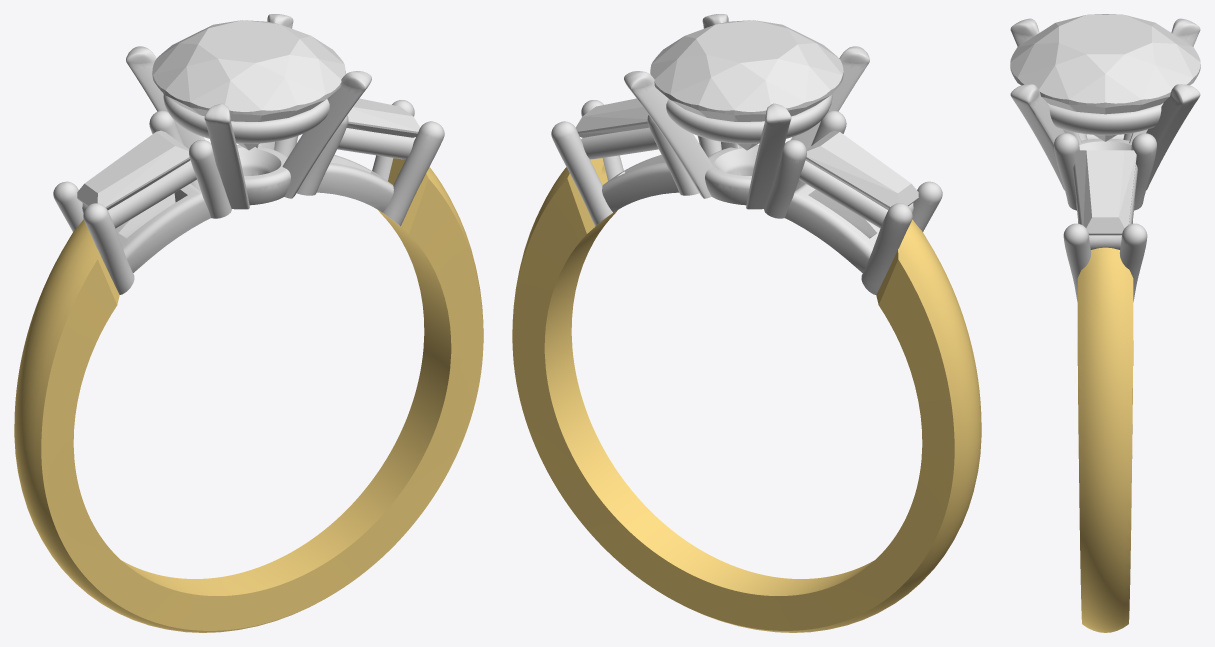
File: Liamv1YGPT_blender.glb
3 renders of one model, left to right at view 1: azimuth 30°, elevation 25°; view 2: azimuth 150°, elevation 25°; view 3: azimuth 270°, elevation 25°, orthographic.
Parts seen in each view (by area): view 1: Liam YG for 3d model, Liam PT for 3d model, center dia for 3d model, tapered dia v1 for 3d model, tapered dia v1 for 3d model.001; view 2: Liam YG for 3d model, Liam PT for 3d model, center dia for 3d model, tapered dia v1 for 3d model, tapered dia v1 for 3d model.001; view 3: Liam YG for 3d model, center dia for 3d model, Liam PT for 3d model, tapered dia v1 for 3d model.001.
Boxes of the visible parts, left/top/right/bottom form: Liam YG for 3d model: left=14, top=158, right=483, bottom=632; Liam PT for 3d model: left=53, top=14, right=444, bottom=294; center dia for 3d model: left=152, top=20, right=345, bottom=150; tapered dia v1 for 3d model: left=77, top=130, right=190, bottom=209; tapered dia v1 for 3d model.001: left=346, top=98, right=420, bottom=137; Liam YG for 3d model: left=512, top=158, right=981, bottom=632; Liam PT for 3d model: left=551, top=14, right=942, bottom=294; center dia for 3d model: left=650, top=20, right=843, bottom=150; tapered dia v1 for 3d model: left=805, top=130, right=918, bottom=209; tapered dia v1 for 3d model.001: left=575, top=98, right=648, bottom=137; Liam YG for 3d model: left=1077, top=221, right=1133, bottom=632; center dia for 3d model: left=1010, top=14, right=1200, bottom=141; Liam PT for 3d model: left=1010, top=18, right=1200, bottom=301; tapered dia v1 for 3d model.001: left=1074, top=150, right=1136, bottom=235.
Size of the model in its own units: 20.52 by 24.96 by 7.5.
